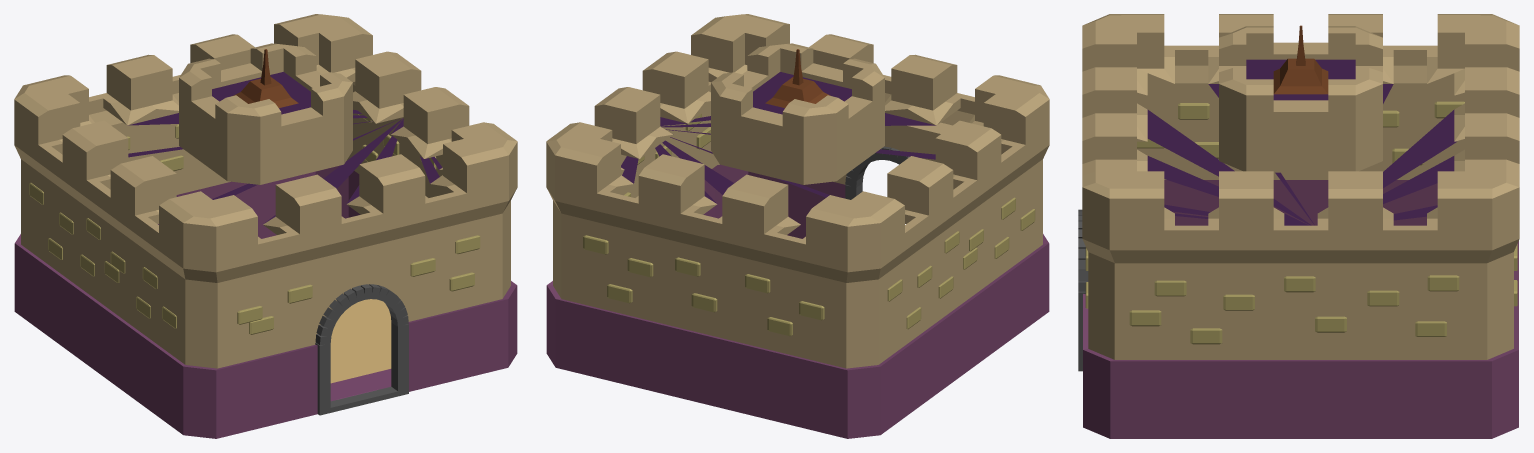
Rendered from castle.fbx.
3 views of the same model, side by side, from view 1: azimuth 30°, elevation 25°; view 2: azimuth 150°, elevation 25°; view 3: azimuth 270°, elevation 25° (orthographic). The views are drawn at different scales.
Visible parts, largest first — view 1: castle, door, carpet; view 2: castle, door; view 3: castle, door, Cube.011, Cube.006, Cube.007, Cube.012, Cube.014, Cube.031, Cube.009, Cube.010, Cube.008, Cube.013.
Part boxes in pixels (bbox=[...]): castle: bbox=[14, 14, 517, 438]; door: bbox=[315, 284, 408, 415]; carpet: bbox=[330, 299, 391, 383]; castle: bbox=[546, 14, 1049, 438]; door: bbox=[845, 146, 909, 199]; castle: bbox=[1082, 14, 1519, 438]; door: bbox=[1078, 209, 1088, 371]; Cube.011: bbox=[1367, 290, 1399, 306]; Cube.006: bbox=[1154, 280, 1186, 296]; Cube.007: bbox=[1190, 328, 1222, 344]; Cube.012: bbox=[1427, 275, 1459, 291]; Cube.014: bbox=[1129, 310, 1161, 326]; Cube.031: bbox=[1178, 103, 1209, 119]; Cube.009: bbox=[1284, 276, 1315, 292]; Cube.010: bbox=[1315, 316, 1346, 332]; Cube.008: bbox=[1223, 294, 1254, 310]; Cube.013: bbox=[1415, 321, 1446, 336].
Size of the model in its own units: 516 by 418 by 521.
